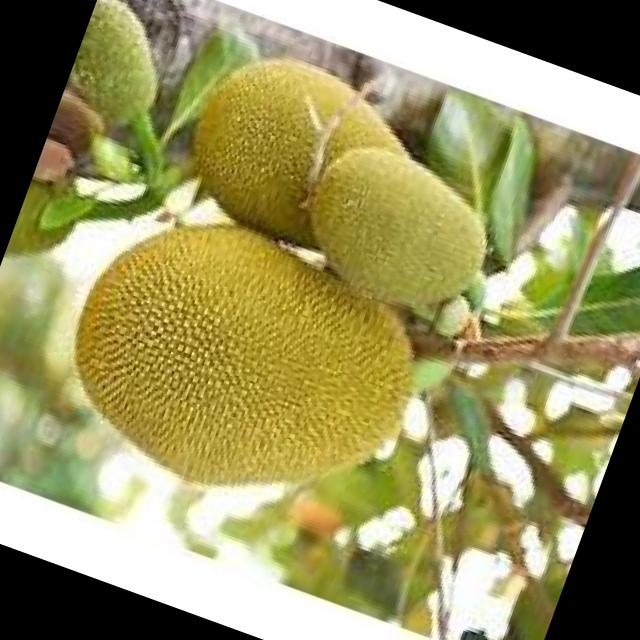Fruit: (11, 156, 468, 569), (265, 101, 539, 356), (138, 14, 398, 274)
